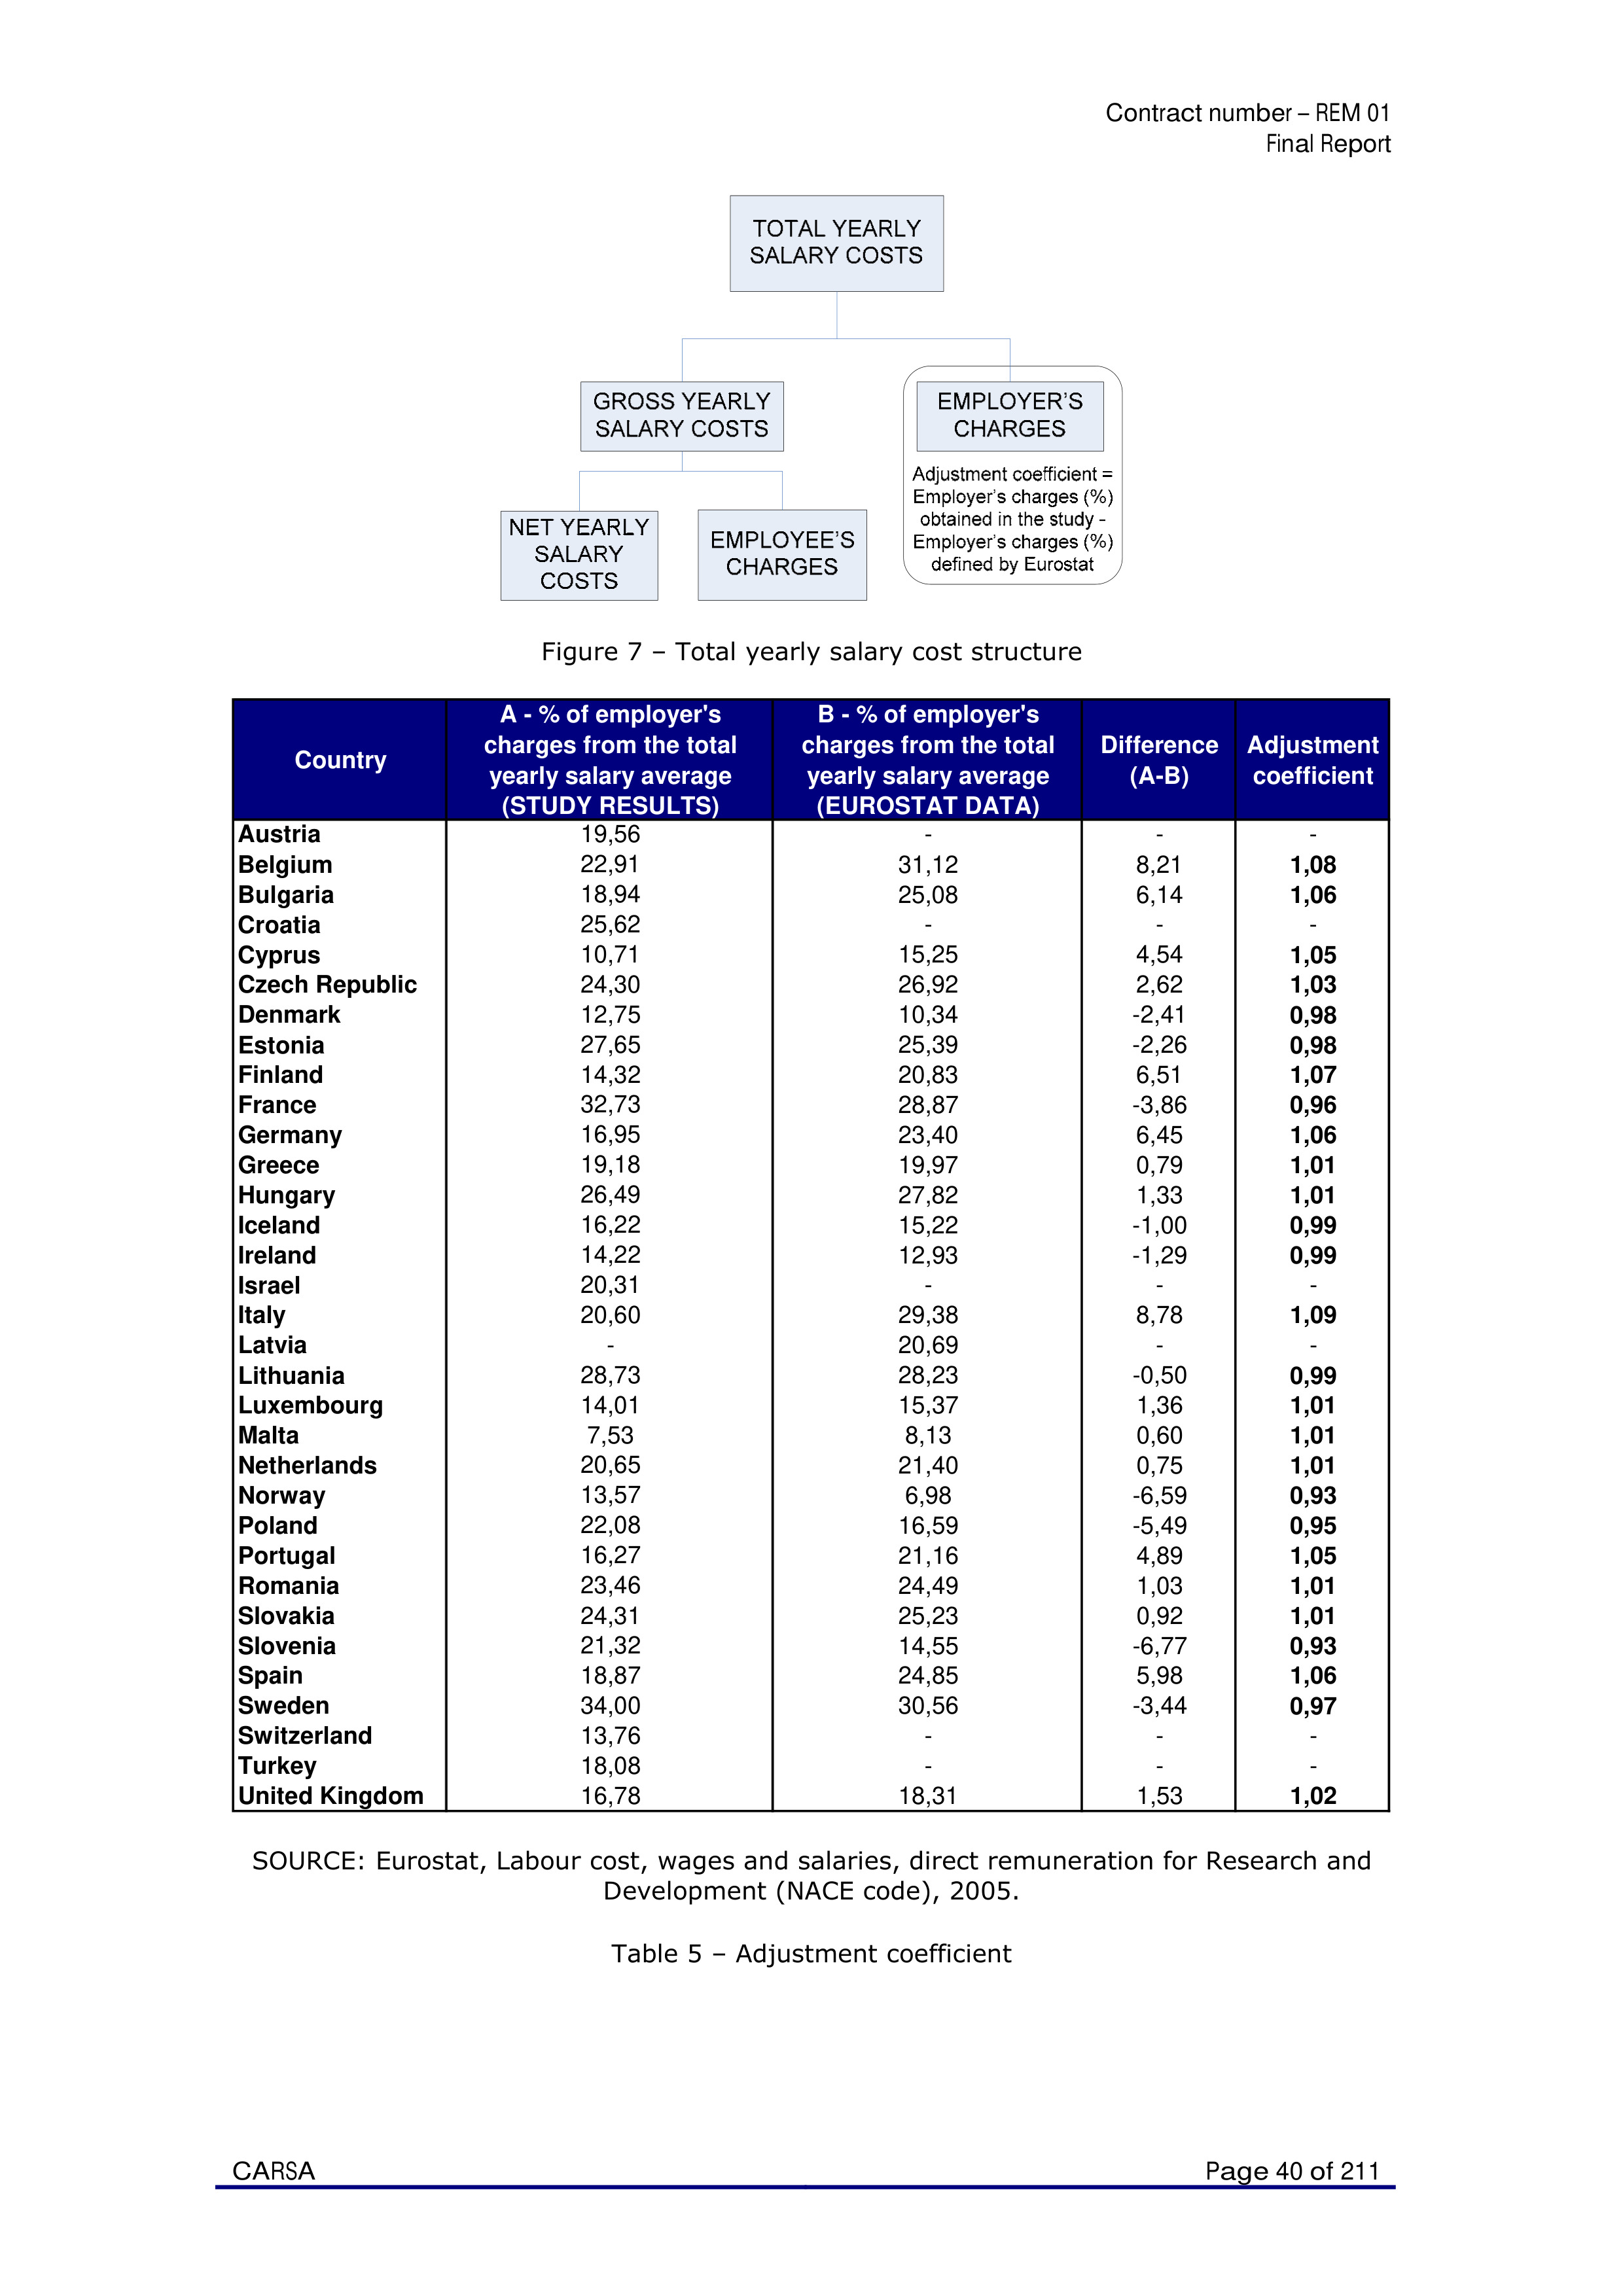table: (237, 697, 1379, 1812)
